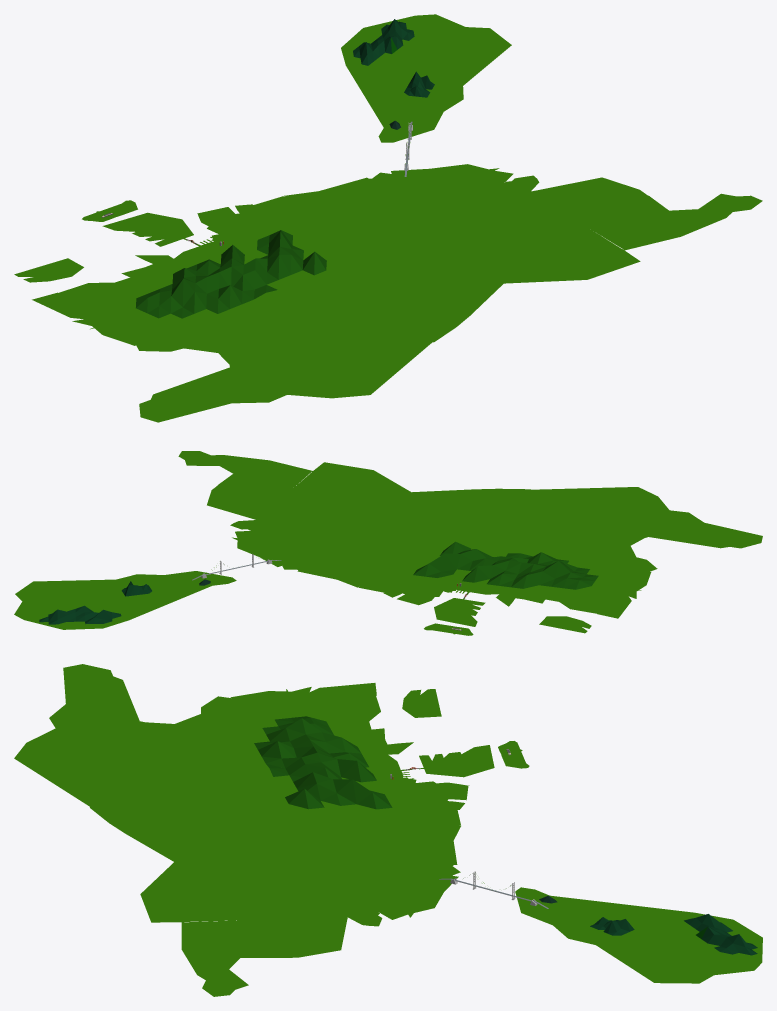
The model's file is kobe.obj.
3 renders of one model, top to bottom at view 1: azimuth 30°, elevation 25°; view 2: azimuth 150°, elevation 25°; view 3: azimuth 270°, elevation 25°, orthographic. The views are drawn at different scales.
Parts seen in each view (by area): view 1: ShapeIndexedFaceSet.022_ShapeIndexedFaceSet, ShapeIndexedFaceSet.018_ShapeIndexedFaceSet.019, ShapeIndexedFaceSet.019_ShapeIndexedFaceSet.020; view 2: ShapeIndexedFaceSet.022_ShapeIndexedFaceSet, ShapeIndexedFaceSet.018_ShapeIndexedFaceSet.019, ShapeIndexedFaceSet.019_ShapeIndexedFaceSet.020; view 3: ShapeIndexedFaceSet.022_ShapeIndexedFaceSet, ShapeIndexedFaceSet.018_ShapeIndexedFaceSet.019, ShapeIndexedFaceSet.019_ShapeIndexedFaceSet.020.
Boxes of the visible parts, x1,y1,x2,y2 form: ShapeIndexedFaceSet.022_ShapeIndexedFaceSet: (14,14,762,422); ShapeIndexedFaceSet.018_ShapeIndexedFaceSet.019: (136,230,326,318); ShapeIndexedFaceSet.019_ShapeIndexedFaceSet.020: (353,19,434,97); ShapeIndexedFaceSet.022_ShapeIndexedFaceSet: (14,451,762,635); ShapeIndexedFaceSet.018_ShapeIndexedFaceSet.019: (413,541,598,589); ShapeIndexedFaceSet.019_ShapeIndexedFaceSet.020: (39,581,151,624); ShapeIndexedFaceSet.022_ShapeIndexedFaceSet: (14,664,762,996); ShapeIndexedFaceSet.018_ShapeIndexedFaceSet.019: (254,716,392,809); ShapeIndexedFaceSet.019_ShapeIndexedFaceSet.020: (590,914,757,955).
Size of the model in its own units: 33469 by 944 by 31821.
